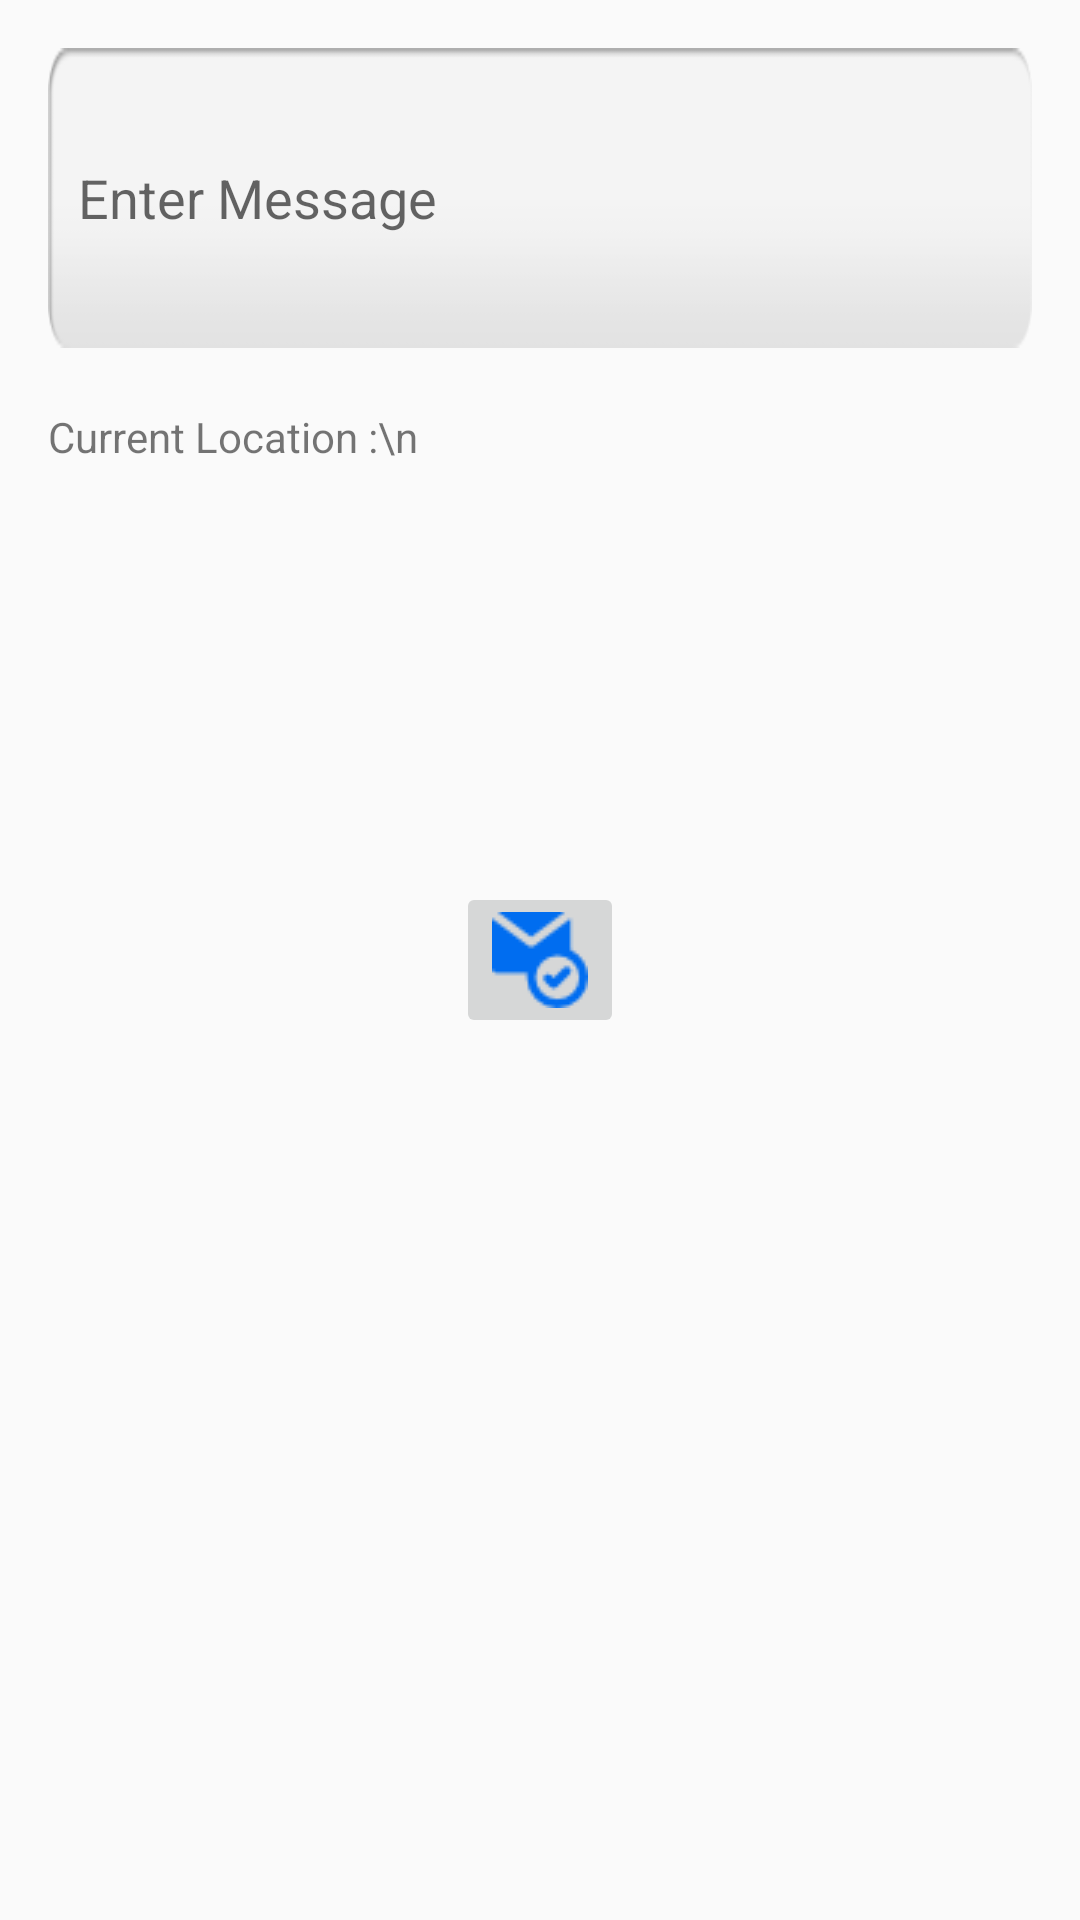

Icons on this 1080px x 1920px Android screen, each with its box as (x1, y1, x2, y2):
message: (468, 900, 612, 1020)
